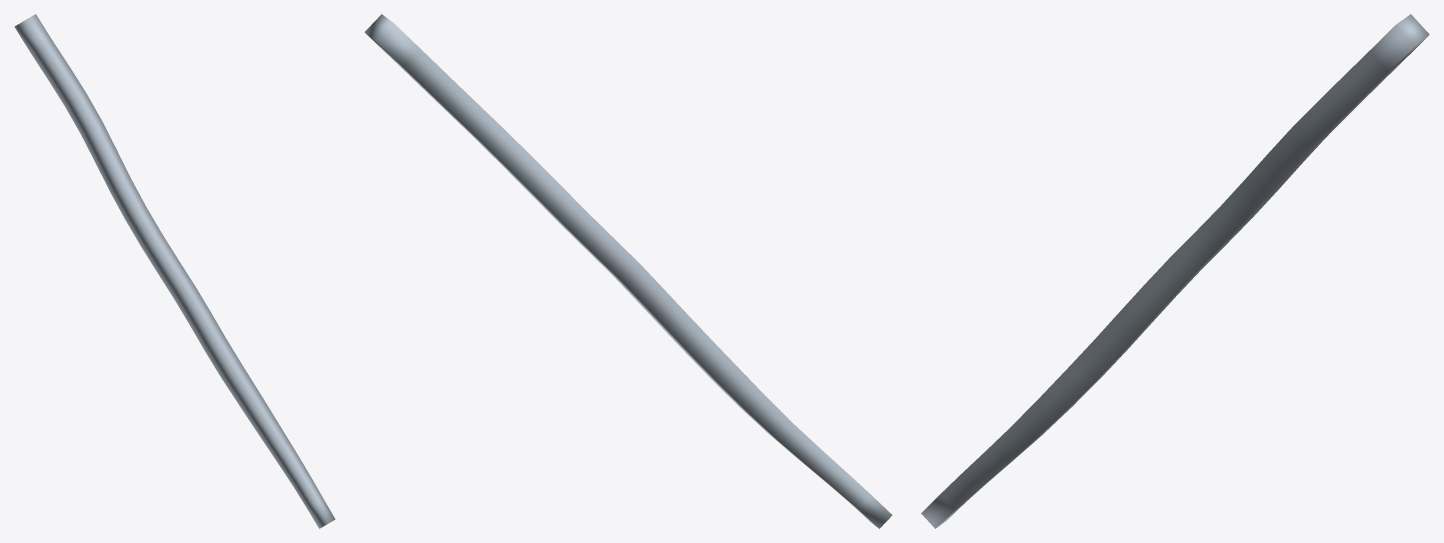
The model's file is stylohyoid-ligament-l.glb.
3 renders of one model, left to right at view 1: azimuth 90°, elevation 25°; view 2: azimuth 150°, elevation 25°; view 3: azimuth 270°, elevation 25°, orthographic. The views are drawn at different scales.
Parts seen in each view (by area): view 1: Stylohyoid ligament.l; view 2: Stylohyoid ligament.l; view 3: Stylohyoid ligament.l.
Part boxes in pixels (box(x1,y1,x2,y2)): Stylohyoid ligament.l: box(14, 14, 335, 528); Stylohyoid ligament.l: box(364, 14, 892, 528); Stylohyoid ligament.l: box(921, 14, 1429, 528).
Bounding box in the file's own units: 0.0265 × 0.0483 × 0.0339.
